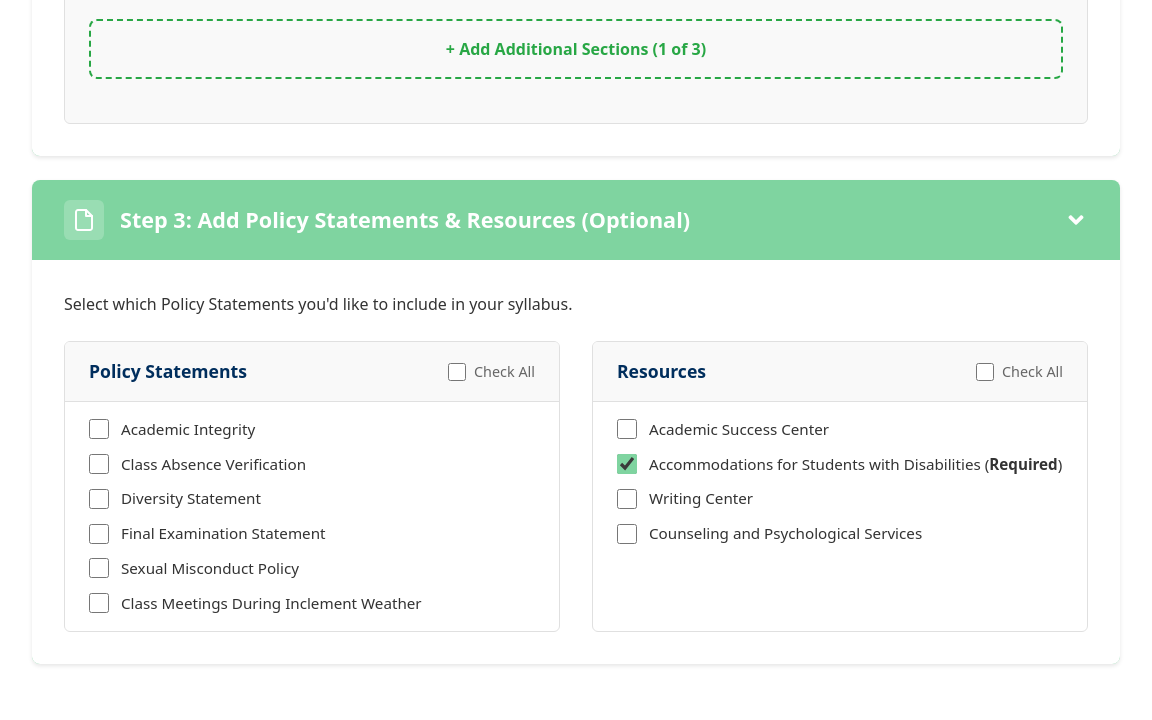
Scenario: Checklist › Check All selects all resources
(page scrolled)
Click the checkbox named "Check all resources" at (985, 372), box x1=976 y1=362 x2=994 y2=380
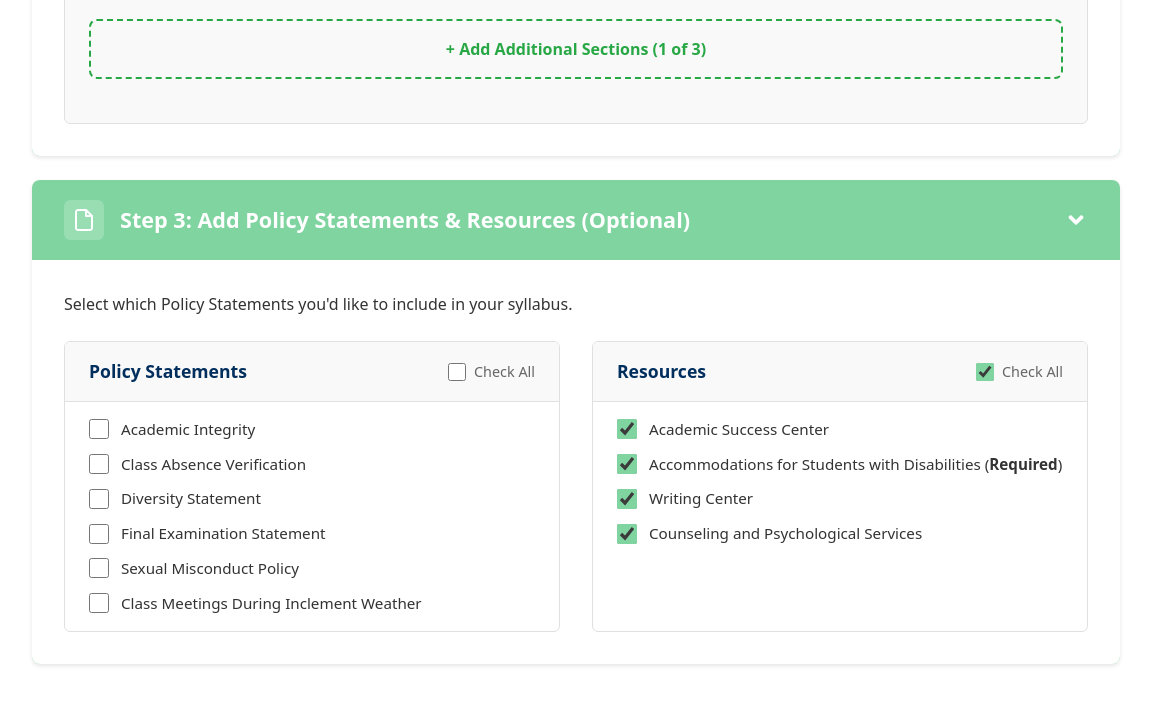
Expected: the checkbox showing "Academic Success Center" is checked, x1=617 y1=419 x2=637 y2=439
Expected: the checkbox showing "Writing Center" is checked, x1=617 y1=489 x2=637 y2=509
Expected: the checkbox showing "Counseling and Psychological Services" is checked, x1=617 y1=524 x2=637 y2=544
